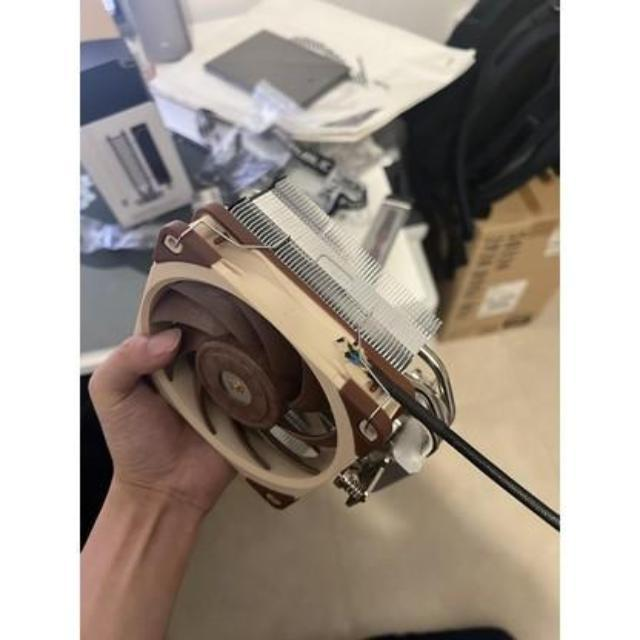CPU_Fan: (144, 185, 453, 512)
